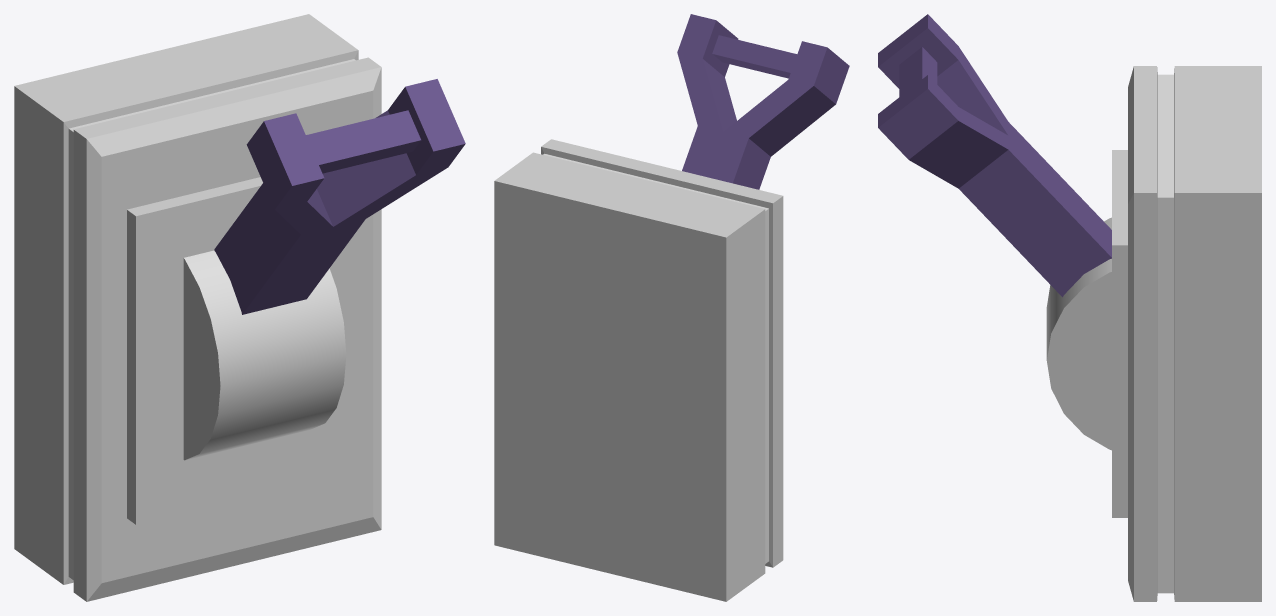
Rendered from Lever.fbx.
The picture shows the model from 3 angles, left to right: view 1: azimuth 30°, elevation 25°; view 2: azimuth 150°, elevation 25°; view 3: azimuth 270°, elevation 25°; orthographic projection. The views are drawn at different scales.
Parts seen in each view (by area): view 1: LeverBase, Lever; view 2: LeverBase, Lever; view 3: LeverBase, Lever.
Boxes of the visible parts, left/top/right/bottom form: LeverBase: left=14, top=14, right=381, bottom=601; Lever: left=183, top=79, right=465, bottom=460; LeverBase: left=494, top=139, right=783, bottom=601; Lever: left=677, top=14, right=849, bottom=189; LeverBase: left=1112, top=66, right=1261, bottom=601; Lever: left=878, top=14, right=1111, bottom=450.
Size of the model in its own units: 20 by 35.73 by 25.53.
